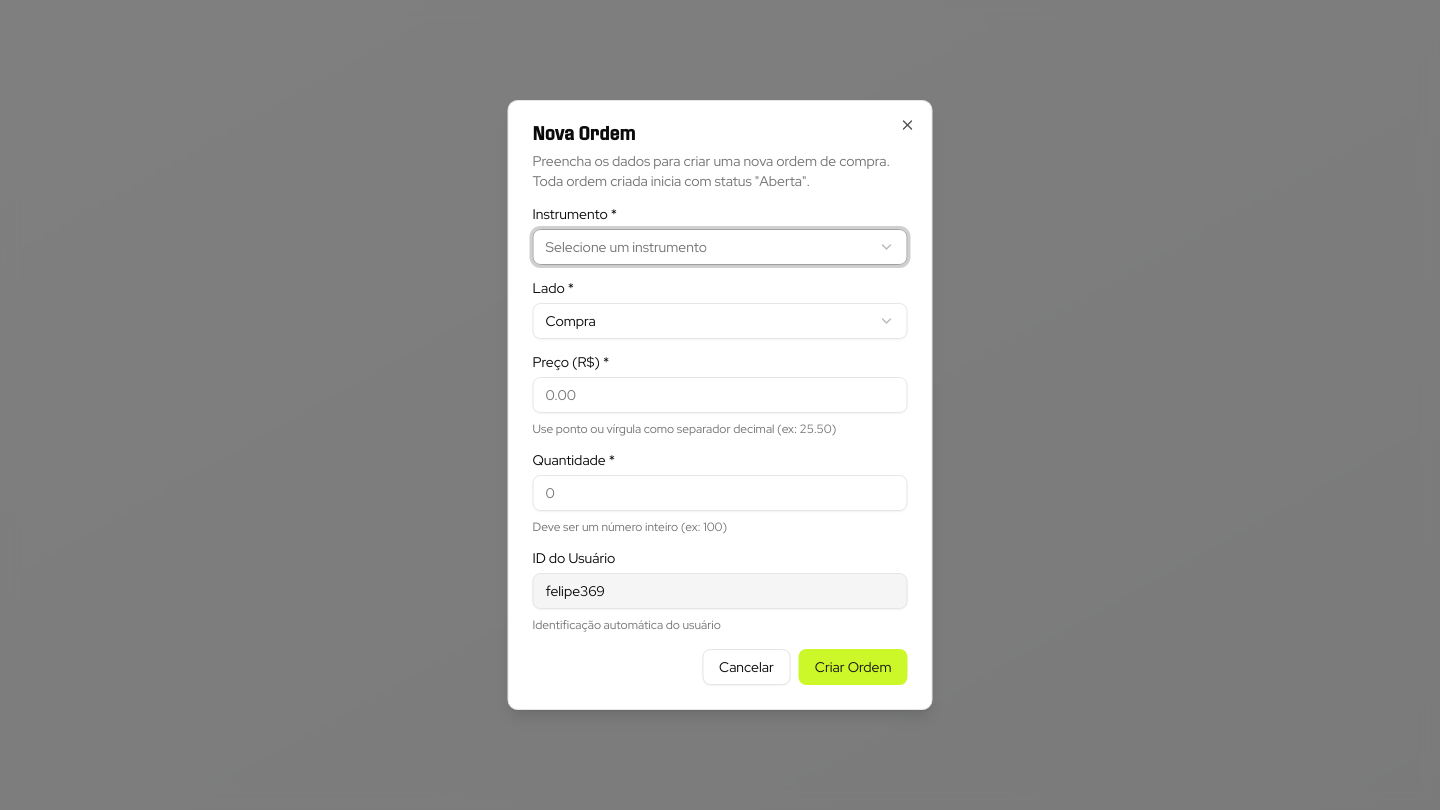
Test: OrderForm Component › deve validar formato de preço inválido
Note: Preencher com preço inválido (mais de 2 casas decimais)
Type "10.123" into the field labelled "Preço (R$) *". click: (720, 395)
box: [532,377,908,413]
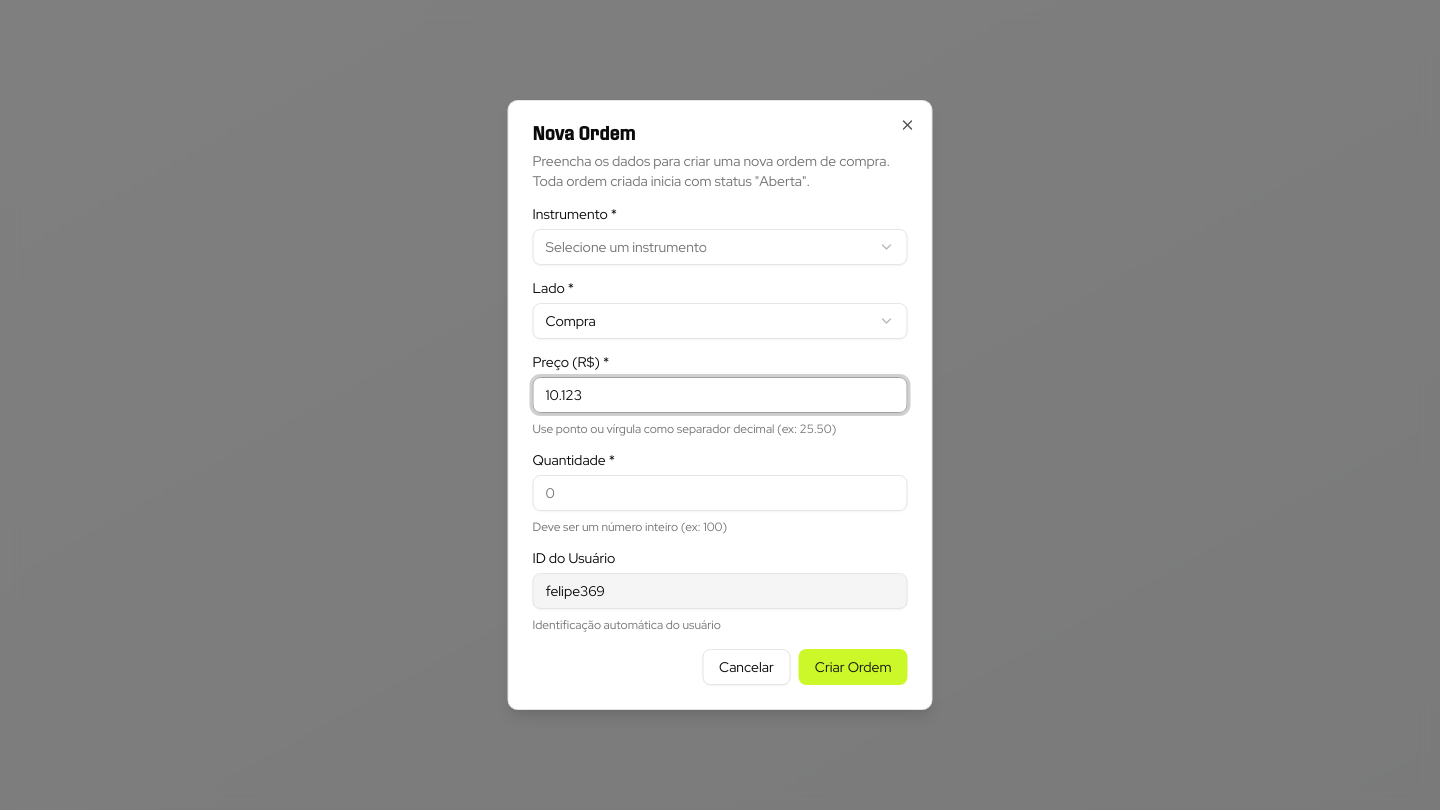
Click the button "Criar Ordem". click: (853, 667)
box: [799,649,908,685]
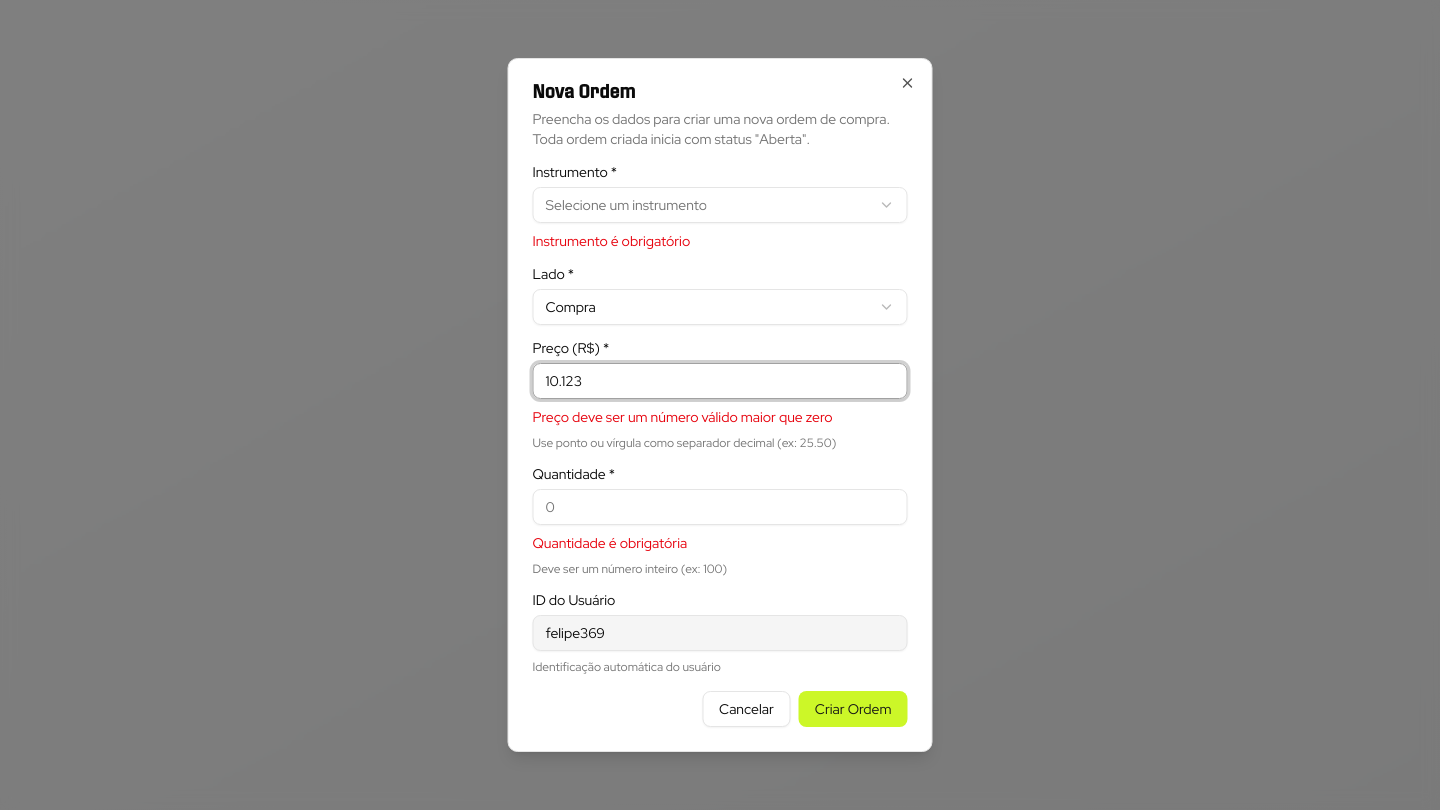
Expected: the text "Preço deve ser um número válido maior que zero" is shown, [532,408,833,426]
